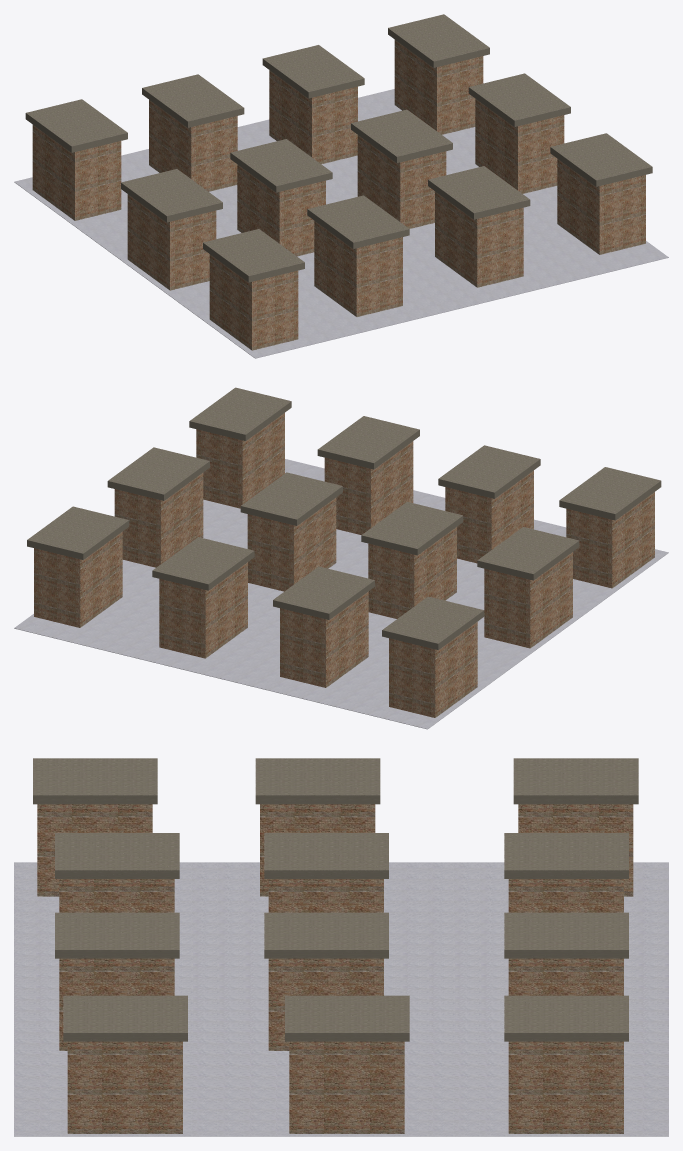
The model's file is PlaneMap.fbx.
The picture shows the model from 3 angles, top to bottom: view 1: azimuth 30°, elevation 25°; view 2: azimuth 150°, elevation 25°; view 3: azimuth 270°, elevation 25°; orthographic projection. The views are drawn at different scales.
Visible parts, largest first — view 1: pCube1, pasted__pasted__pasted__pasted__pasted__pasted__pasted__pCub (×4), pasted__pasted__pasted__pasted__pCube2 (×2), pasted__pasted__pasted__pasted__pasted__pasted__pCube2 (×2), pasted__pasted__pasted__pasted__pasted__pasted__pasted__past (×2), pasted__pasted__pasted__pasted__pasted__pasted__pCube3 (×2), pasted__pasted__pasted__pasted__pCube3 (×2), pasted__pasted__pCube2, pCube2, pasted__pCube2, pasted__pasted__pasted__pCube2, pasted__pasted__pasted__pasted__pasted__pCube2 (+5 smaller); view 2: pCube1, pasted__pasted__pasted__pasted__pasted__pasted__pasted__pCub (×4), pasted__pasted__pasted__pasted__pCube2 (×2), pasted__pasted__pasted__pasted__pasted__pasted__pCube2 (×2), pasted__pasted__pasted__pasted__pasted__pasted__pasted__past (×2), pasted__pasted__pasted__pasted__pasted__pasted__pCube3 (×2), pasted__pasted__pasted__pasted__pCube3 (×2), pasted__pCube2, pCube2, pasted__pasted__pasted__pasted__pasted__pCube2, pasted__pasted__pCube2, pasted__pasted__pasted__pCube2 (+5 smaller); view 3: pCube1, pasted__pasted__pasted__pasted__pCube2 (×2), pasted__pasted__pasted__pasted__pasted__pasted__pasted__pCub (×4), pasted__pasted__pasted__pasted__pCube3 (×2), pasted__pasted__pasted__pasted__pasted__pasted__pCube3 (×2), pasted__pasted__pasted__pCube2, pasted__pasted__pasted__pasted__pasted__pasted__pasted__past (×2), pasted__pasted__pasted__pasted__pasted__pasted__pCube2 (×2), pCube3, pasted__pCube3, pasted__pasted__pCube3, pasted__pasted__pasted__pCube3 (+5 smaller).
Part boxes in pixels (x1=…): pCube1: x1=14, y1=89, x2=668, y2=358; pasted__pasted__pasted__pasted__pasted__pasted__pasted__pCub (×4): x1=307, y1=109, x2=452, y2=316; pasted__pasted__pasted__pasted__pCube2 (×2): x1=394, y1=40, x2=645, y2=254; pasted__pasted__pasted__pasted__pasted__pasted__pCube2 (×2): x1=237, y1=70, x2=357, y2=256; pasted__pasted__pasted__pasted__pasted__pasted__pasted__past (×2): x1=428, y1=166, x2=530, y2=287; pasted__pasted__pasted__pasted__pasted__pasted__pCube3 (×2): x1=230, y1=45, x2=364, y2=192; pasted__pasted__pasted__pasted__pCube3 (×2): x1=388, y1=14, x2=652, y2=186; pasted__pasted__pCube2: x1=209, y1=254, x2=298, y2=350; pCube2: x1=32, y1=125, x2=121, y2=220; pasted__pCube2: x1=127, y1=194, x2=216, y2=290; pasted__pasted__pasted__pCube2: x1=475, y1=98, x2=564, y2=193; pasted__pasted__pasted__pasted__pasted__pCube2: x1=149, y1=100, x2=237, y2=191; pCube1: x1=14, y1=459, x2=668, y2=729; pasted__pasted__pasted__pasted__pasted__pasted__pasted__pCub (×4): x1=240, y1=445, x2=540, y2=591; pasted__pasted__pasted__pasted__pCube2 (×2): x1=34, y1=413, x2=284, y2=627; pasted__pasted__pasted__pasted__pasted__pasted__pCube2 (×2): x1=159, y1=527, x2=456, y2=658; pasted__pasted__pasted__pasted__pasted__pasted__pasted__past (×2): x1=317, y1=416, x2=419, y2=534; pasted__pasted__pasted__pasted__pasted__pasted__pCube3 (×2): x1=152, y1=501, x2=463, y2=590; pasted__pasted__pasted__pasted__pCube3 (×2): x1=27, y1=387, x2=291, y2=559; pasted__pCube2: x1=484, y1=552, x2=572, y2=648; pCube2: x1=389, y1=622, x2=477, y2=717; pasted__pasted__pasted__pasted__pasted__pCube2: x1=280, y1=591, x2=368, y2=687; pasted__pasted__pCube2: x1=566, y1=492, x2=654, y2=588; pasted__pasted__pasted__pCube2: x1=114, y1=472, x2=203, y2=567; pCube1: x1=14, y1=862, x2=668, y2=1136; pasted__pasted__pasted__pasted__pCube2 (×2): x1=67, y1=1041, x2=623, y2=1133; pasted__pasted__pasted__pasted__pasted__pasted__pasted__pCub (×4): x1=55, y1=833, x2=388, y2=1050; pasted__pasted__pasted__pasted__pCube3 (×2): x1=63, y1=995, x2=628, y2=1041; pasted__pasted__pasted__pasted__pasted__pasted__pCube3 (×2): x1=264, y1=833, x2=628, y2=958; pasted__pasted__pasted__pCube2: x1=289, y1=1041, x2=404, y2=1133; pasted__pasted__pasted__pasted__pasted__pasted__pasted__past (×2): x1=55, y1=912, x2=179, y2=1050; pasted__pasted__pasted__pasted__pasted__pasted__pCube2 (×2): x1=268, y1=879, x2=623, y2=995; pCube3: x1=513, y1=758, x2=638, y2=804; pasted__pCube3: x1=255, y1=758, x2=380, y2=804; pasted__pasted__pCube3: x1=33, y1=758, x2=157, y2=804; pasted__pasted__pasted__pCube3: x1=285, y1=995, x2=409, y2=1041.
Bounding box in the file's own units: 1338 × 238 × 1346.
